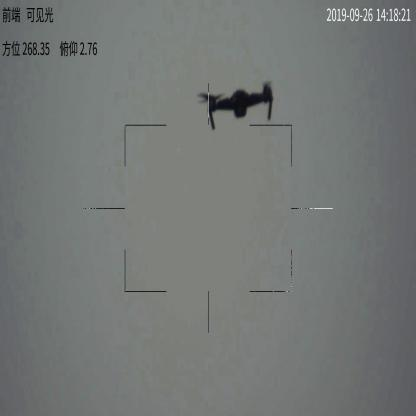uav: (195, 82, 275, 133)
